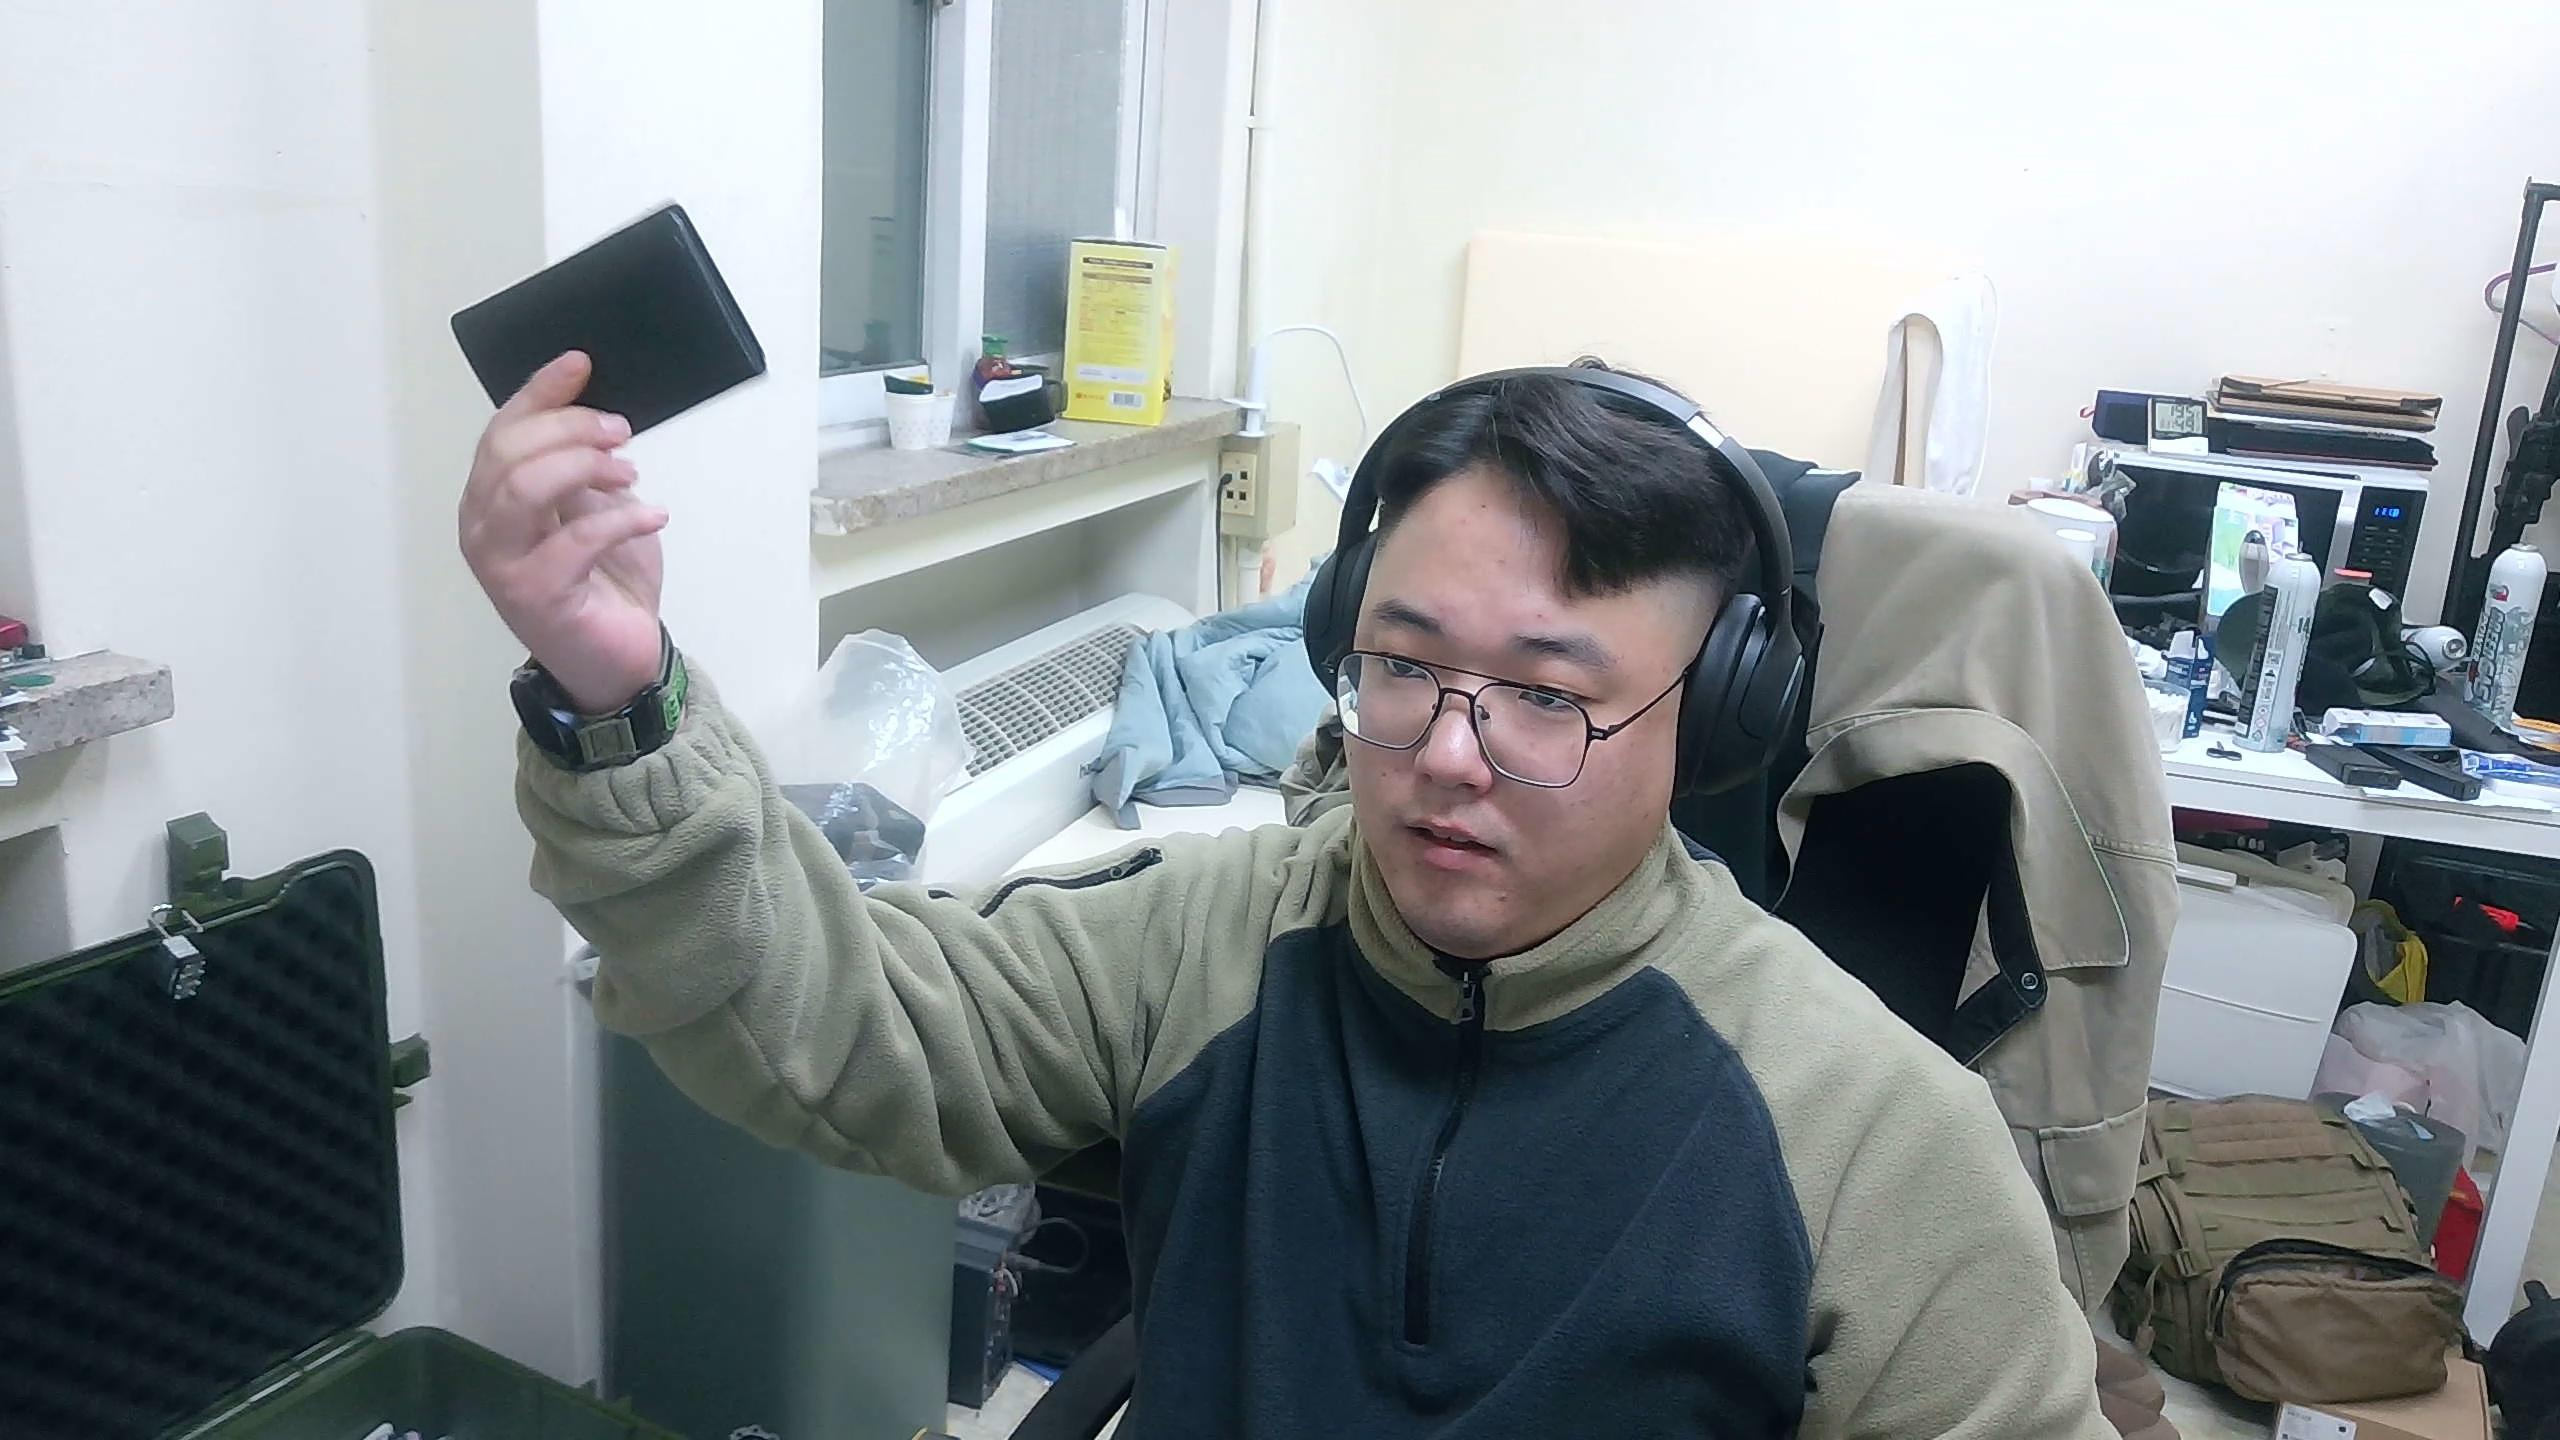earphone: (450, 199, 772, 443)
